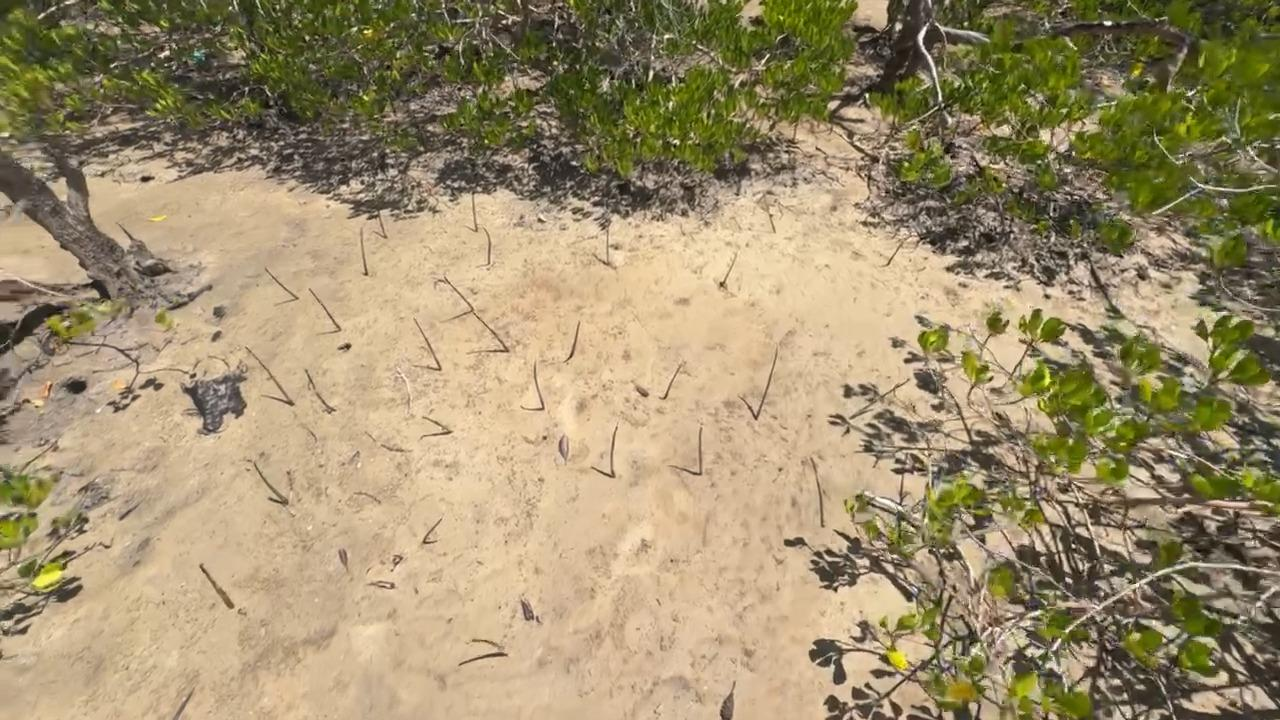Tree: (1000, 307, 1069, 389), (245, 345, 292, 406), (198, 561, 236, 609), (756, 347, 778, 420), (413, 316, 442, 371), (253, 460, 288, 505), (471, 311, 508, 352), (308, 288, 342, 331), (304, 369, 335, 412), (264, 266, 299, 301), (443, 276, 473, 310), (763, 194, 777, 234), (422, 517, 443, 543), (665, 364, 681, 398), (610, 423, 620, 477), (885, 240, 905, 266), (720, 252, 736, 284), (421, 415, 450, 432), (533, 359, 543, 408), (359, 227, 368, 276), (471, 638, 503, 651), (570, 321, 581, 357), (115, 221, 134, 240), (483, 226, 491, 264), (377, 209, 387, 238), (471, 192, 478, 232), (698, 427, 703, 475), (605, 226, 610, 264)
